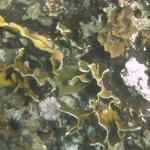alive: (1, 3, 147, 148)
